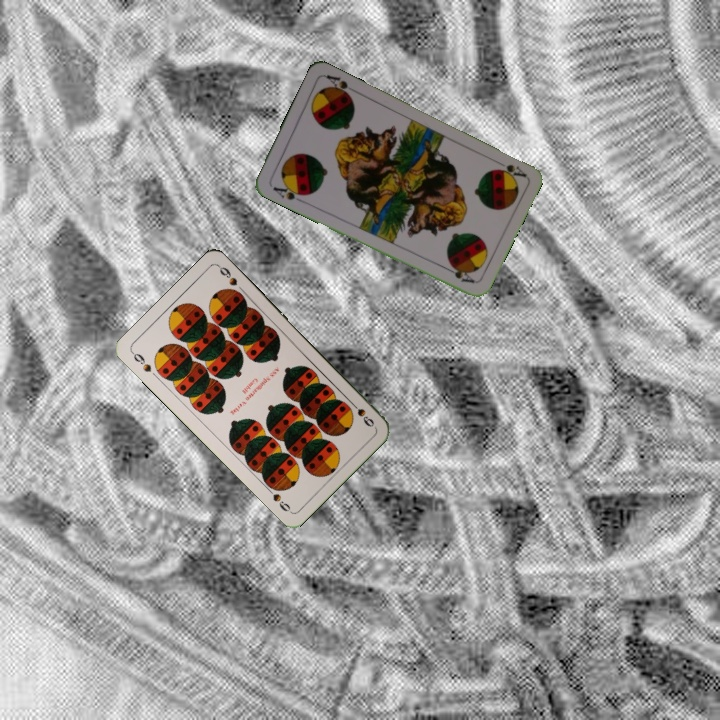S9: (346, 397, 377, 429), (127, 348, 154, 375)
SA: (268, 180, 308, 205), (490, 156, 529, 180)
